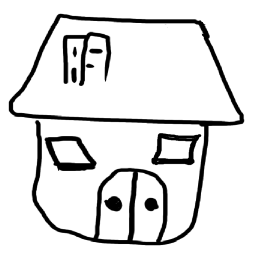big_house: (3, 2, 260, 260)
chimney: (58, 28, 115, 92)
door: (89, 165, 171, 247)
open_window: (42, 133, 100, 176), (150, 128, 203, 167)
roof: (7, 8, 249, 129)
wall: (25, 106, 212, 250)
